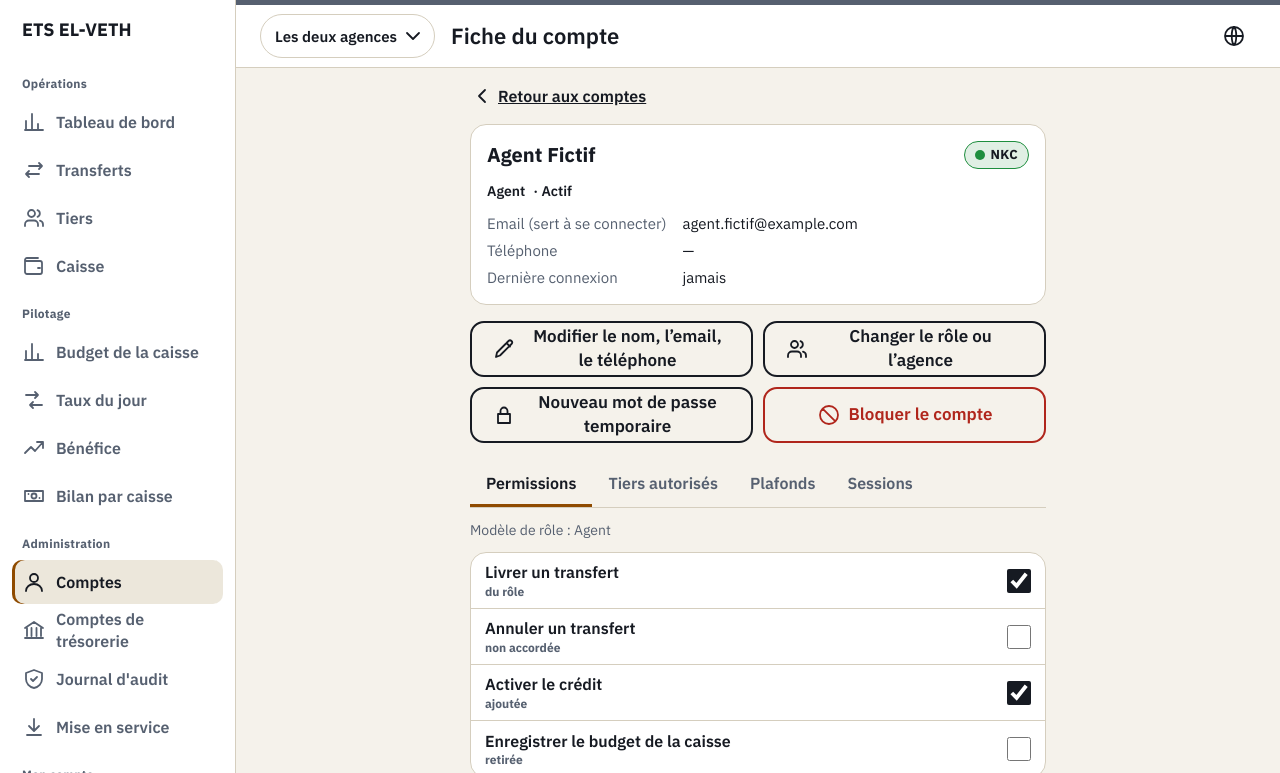
Test: Fiche d’un compte — onglets (Superviseur) › Permissions : l’origine est écrite en mots ; la liste complète voulue est envoyée
The width and height of the screenshot is (1280, 773).
Step 1. Click the tab "Permissions" → click(531, 483), box [470,459,592,507]
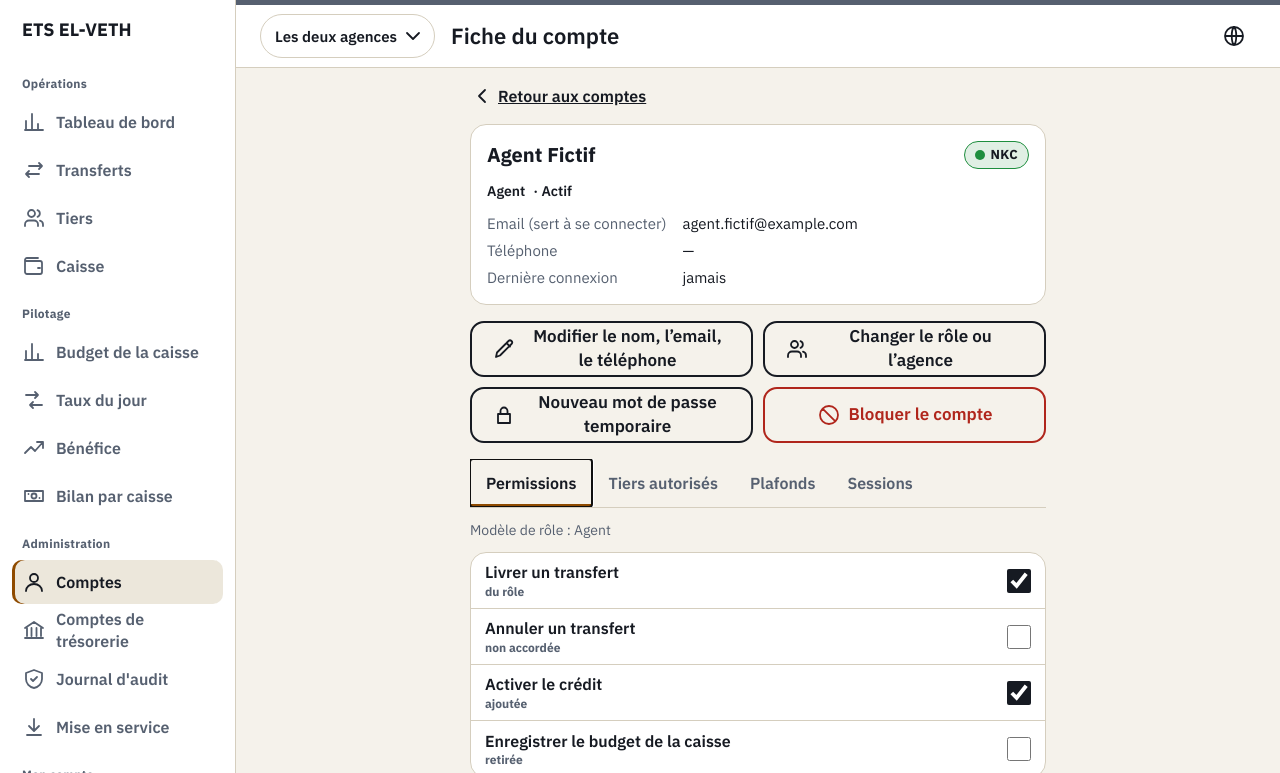
expect the text "Modèle de rôle : Agent" is shown: met, box [470,521,611,539]
expect the text "du rôle" is shown: met, box [485,584,524,599]
Step 2. Click the switch named "Annuler un transfert" → click(1019, 636), box [1007,624,1031,648]
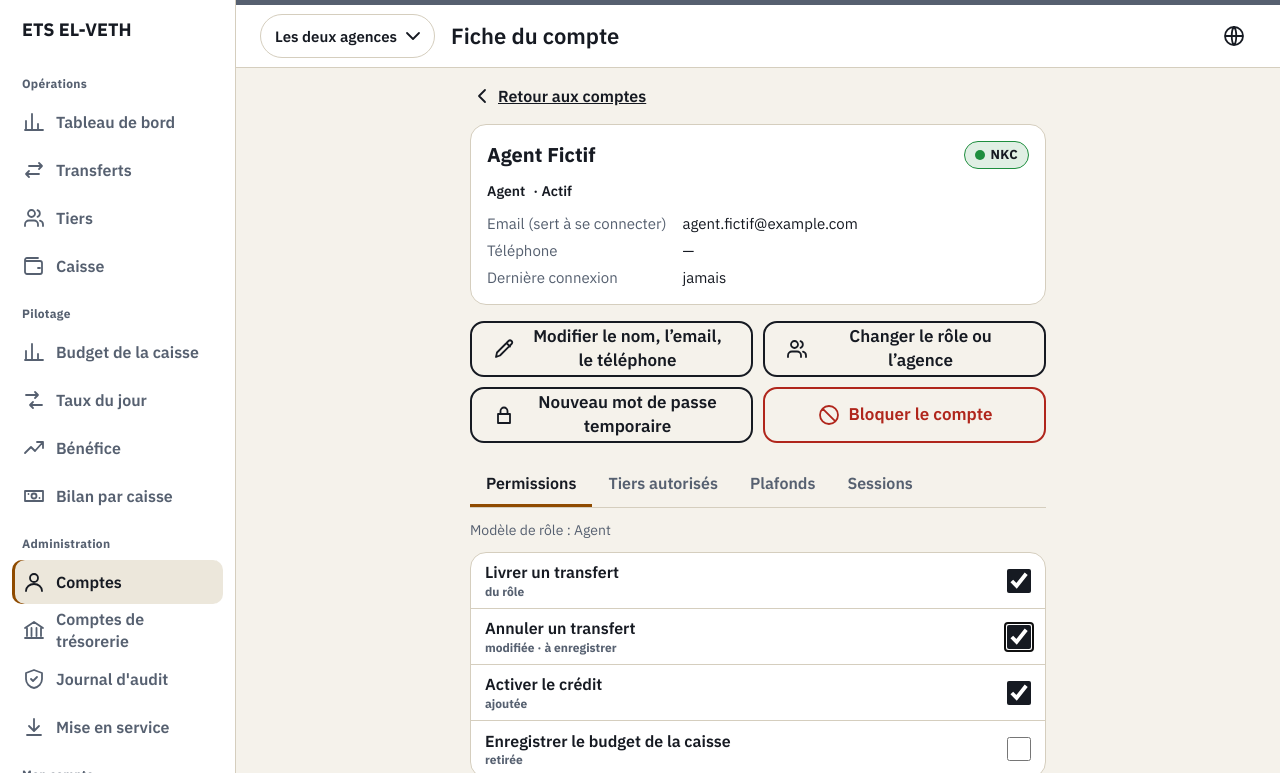
expect the text "modifiée · à enregistrer" is shown: met, box [485,640,616,655]
Step 3. Click the switch named "Activer le crédit" → click(1019, 692), box [1007,680,1031,704]
(page scrolled)
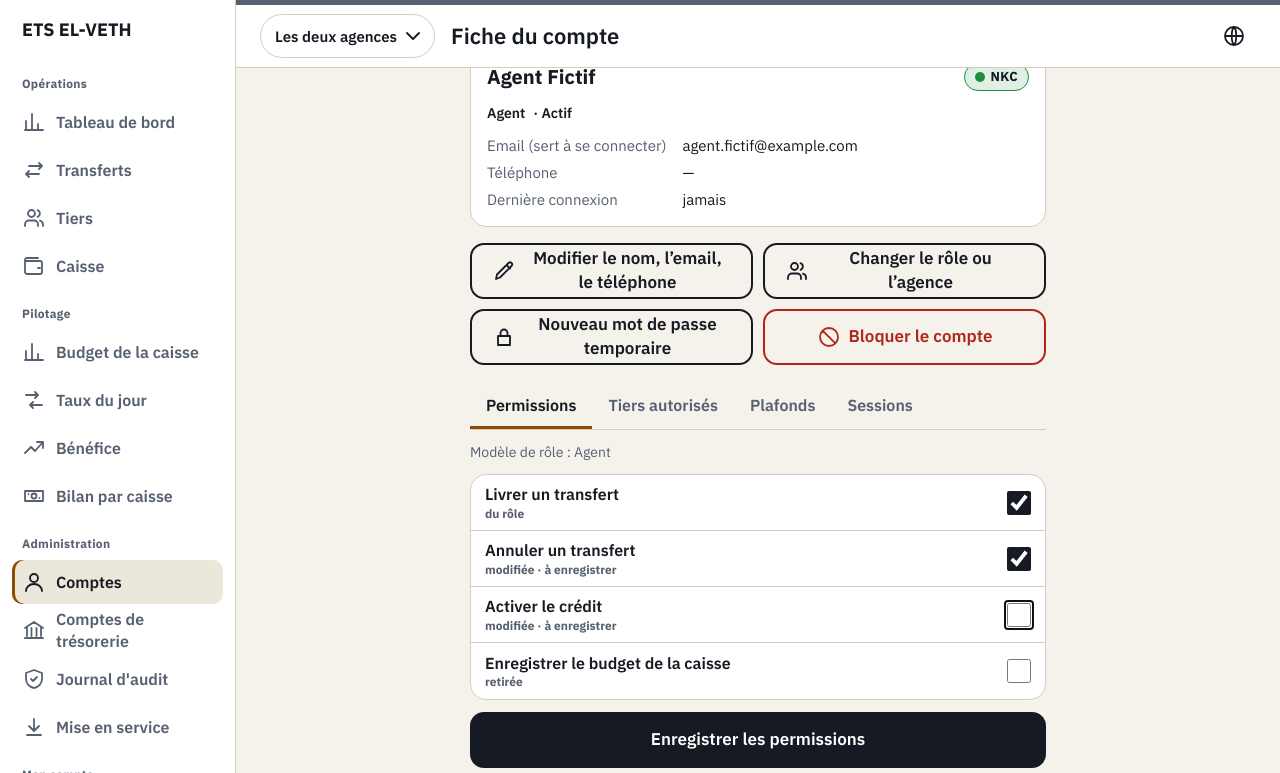
Step 4. Click the button "Enregistrer les permissions" → click(758, 740), box [470,712,1046,768]
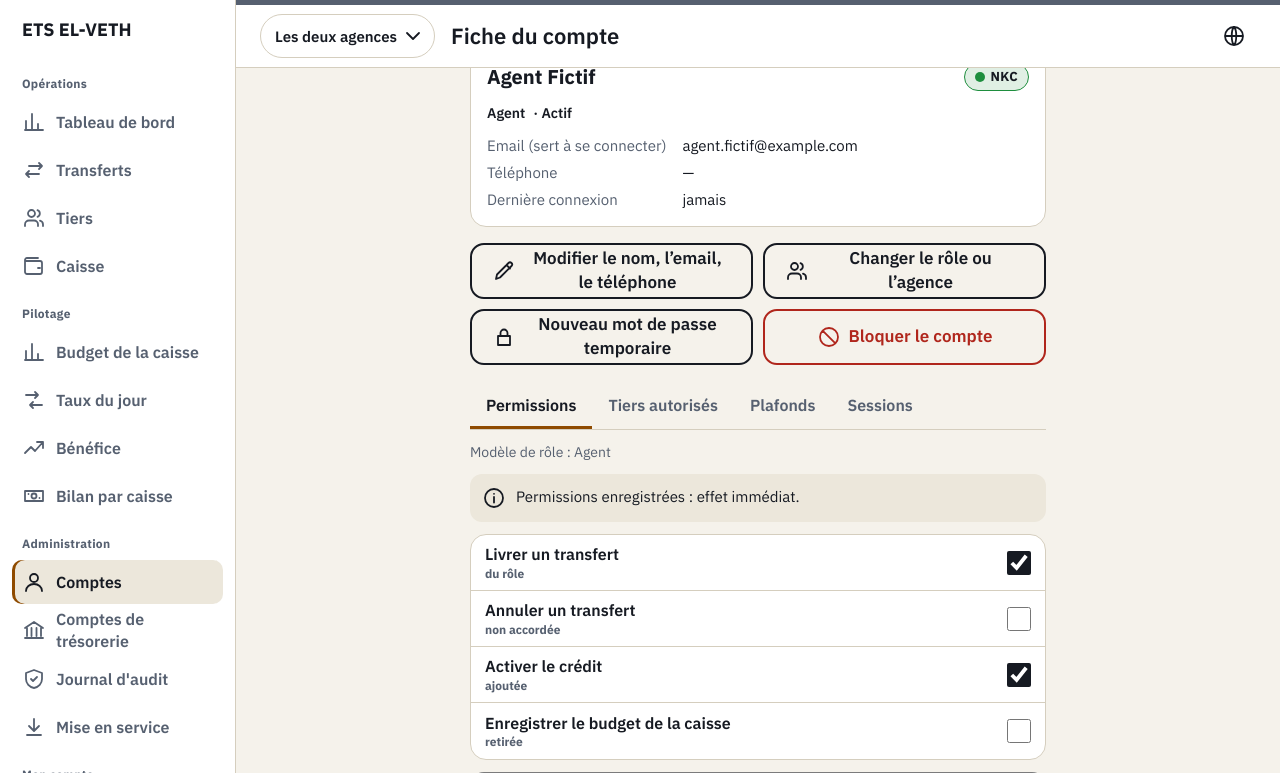
expect the text "Permissions enregistrées : effet immédiat." is shown: met, box [516,486,800,510]
